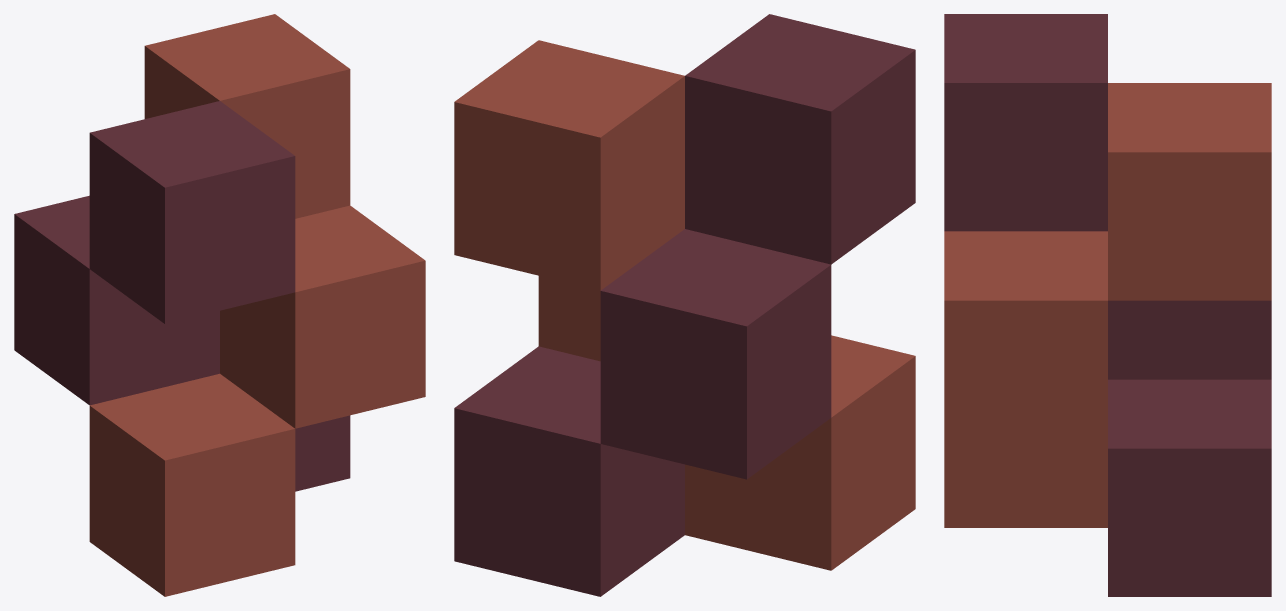
Rendered from NB_TR_F_Braid_Test_001.fbx.
3 renders of one model, left to right at view 1: azimuth 30°, elevation 25°; view 2: azimuth 150°, elevation 25°; view 3: azimuth 270°, elevation 25°, orthographic. The views are drawn at different scales.
Visible parts, largest first — view 1: Braid_Test_001; view 2: Braid_Test_001; view 3: Braid_Test_001.
Part boxes in pixels (x1=…): Braid_Test_001: x1=14, y1=14, x2=425, y2=596; Braid_Test_001: x1=454, y1=14, x2=915, y2=596; Braid_Test_001: x1=944, y1=14, x2=1271, y2=596.
Size of the model in its own units: 2 by 3 by 2.
Materials: 1 (1 with a texture image).
